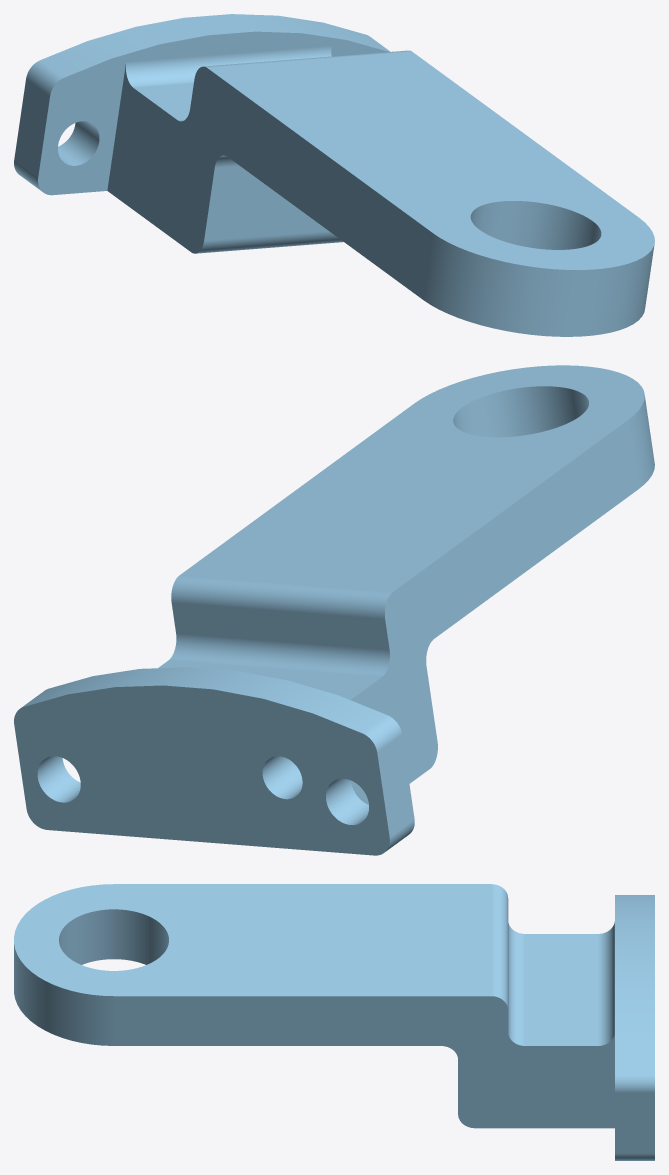
3 views of the same model, one above another, from view 1: azimuth 30°, elevation 25°; view 2: azimuth 150°, elevation 25°; view 3: azimuth 270°, elevation 25° (orthographic). The views are drawn at different scales.
Visible parts, largest first — view 1: mesh325, mesh323, mesh324, mesh312, mesh305, mesh317, mesh327, mesh314, mesh303, mesh316, mesh315, mesh310 (+2 smaller); view 2: mesh302, mesh325, mesh323, mesh305, mesh320, mesh321, mesh319, mesh327, mesh315, mesh303, mesh324, mesh311 (+3 smaller); view 3: mesh325, mesh322, mesh315, mesh305, mesh324, mesh327, mesh304, mesh321, mesh314, mesh319, mesh308.
Boxes of the visible parts, x1=… form: mesh325: x1=208, y1=52, x2=654, y2=269; mesh323: x1=107, y1=64, x2=433, y2=299; mesh324: x1=423, y1=233, x2=654, y2=336; mesh312: x1=38, y1=31, x2=388, y2=195; mesh305: x1=40, y1=14, x2=389, y2=77; mesh317: x1=204, y1=166, x2=328, y2=240; mesh327: x1=470, y1=201, x2=601, y2=249; mesh314: x1=126, y1=45, x2=331, y2=87; mesh303: x1=14, y1=79, x2=49, y2=177; mesh316: x1=197, y1=231, x2=343, y2=253; mesh315: x1=134, y1=83, x2=193, y2=119; mesh310: x1=58, y1=121, x2=99, y2=165; mesh302: x1=14, y1=685, x2=389, y2=855; mesh325: x1=179, y1=365, x2=644, y2=592; mesh323: x1=351, y1=420, x2=637, y2=804; mesh305: x1=24, y1=667, x2=387, y2=733; mesh320: x1=171, y1=603, x2=389, y2=649; mesh321: x1=171, y1=575, x2=392, y2=619; mesh319: x1=168, y1=633, x2=389, y2=676; mesh327: x1=453, y1=386, x2=588, y2=437; mesh315: x1=158, y1=660, x2=381, y2=699; mesh303: x1=377, y1=735, x2=414, y2=836; mesh324: x1=628, y1=395, x2=654, y2=489; mesh311: x1=37, y1=756, x2=80, y2=802; mesh325: x1=14, y1=884, x2=491, y2=996; mesh322: x1=114, y1=996, x2=614, y2=1128; mesh315: x1=525, y1=934, x2=597, y2=1045; mesh305: x1=615, y1=895, x2=654, y2=1073; mesh324: x1=14, y1=944, x2=113, y2=1045; mesh327: x1=59, y1=909, x2=168, y2=964; mesh304: x1=615, y1=1092, x2=654, y2=1153; mesh321: x1=491, y1=884, x2=508, y2=1009; mesh314: x1=598, y1=921, x2=614, y2=1045; mesh319: x1=508, y1=923, x2=524, y2=1045; mesh308: x1=615, y1=1073, x2=654, y2=1092.
Bounding box in the file's own units: 0.0348 × 0.0197 × 0.064.
